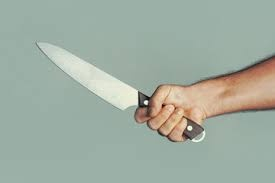knife: (35, 40, 206, 143)
